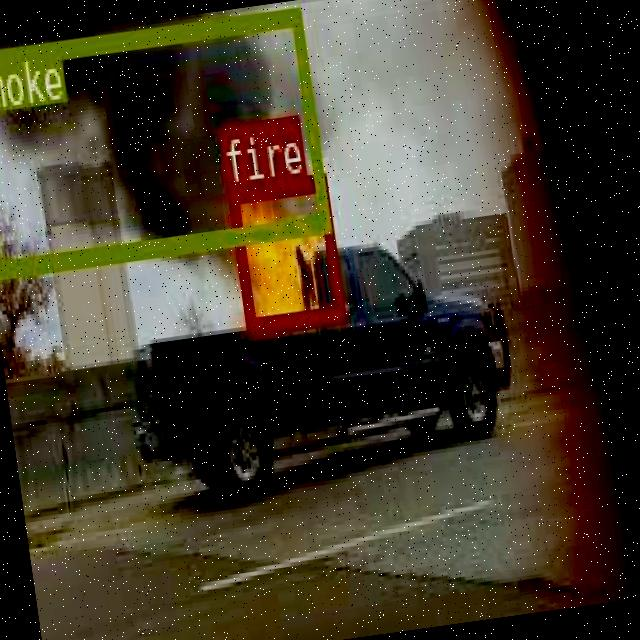fire: (225, 173, 343, 332)
smoke: (0, 5, 329, 275)
